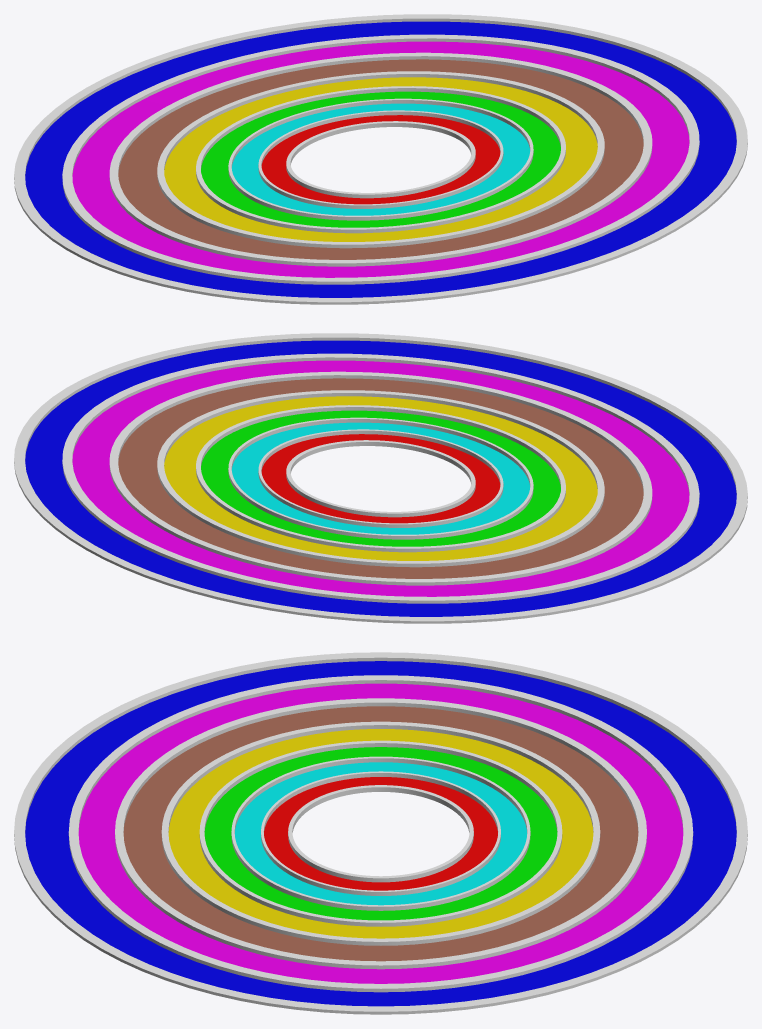
The model's file is san_2.fbx.
The picture shows the model from 3 angles, top to bottom: view 1: azimuth 30°, elevation 25°; view 2: azimuth 150°, elevation 25°; view 3: azimuth 270°, elevation 25°; orthographic projection. The views are drawn at different scales.
Parts seen in each view (by area): view 1: san_2vong_7, san_2vong_6, san_2vong_5, san_2vong_4, san_2vong_3, san_2vong_2, san_2vong_1; view 2: san_2vong_7, san_2vong_6, san_2vong_5, san_2vong_4, san_2vong_3, san_2vong_2, san_2vong_1; view 3: san_2vong_7, san_2vong_6, san_2vong_5, san_2vong_4, san_2vong_3, san_2vong_2, san_2vong_1.
Part boxes in pixels (x1,y1,x2,y2): san_2vong_7: [14, 14, 747, 304]; san_2vong_6: [62, 34, 699, 284]; san_2vong_5: [109, 52, 652, 266]; san_2vong_4: [157, 71, 604, 248]; san_2vong_3: [196, 86, 565, 233]; san_2vong_2: [228, 98, 533, 220]; san_2vong_1: [258, 110, 503, 208]; san_2vong_7: [14, 333, 747, 623]; san_2vong_6: [62, 353, 699, 603]; san_2vong_5: [109, 371, 652, 585]; san_2vong_4: [157, 390, 604, 567]; san_2vong_3: [196, 405, 565, 552]; san_2vong_2: [228, 417, 533, 539]; san_2vong_1: [258, 429, 503, 527]; san_2vong_7: [14, 652, 747, 1014]; san_2vong_6: [68, 675, 693, 992]; san_2vong_5: [115, 698, 646, 969]; san_2vong_4: [161, 721, 600, 945]; san_2vong_3: [199, 740, 562, 926]; san_2vong_2: [231, 756, 530, 910]; san_2vong_1: [261, 771, 500, 895].
Size of the model in its own units: 112 by 0.6831 by 97.04.
